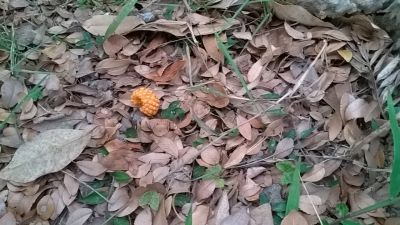eggs: (129, 86, 162, 117)
